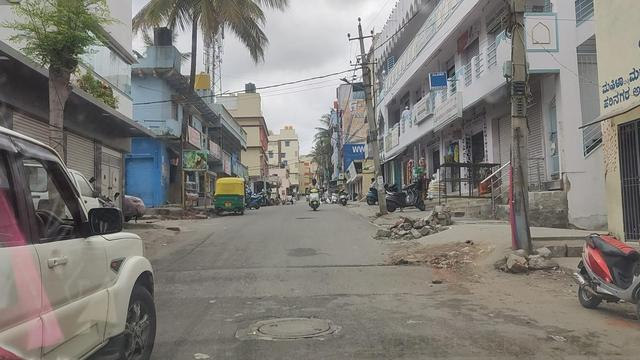RoadDamages: (233, 305, 344, 352)
